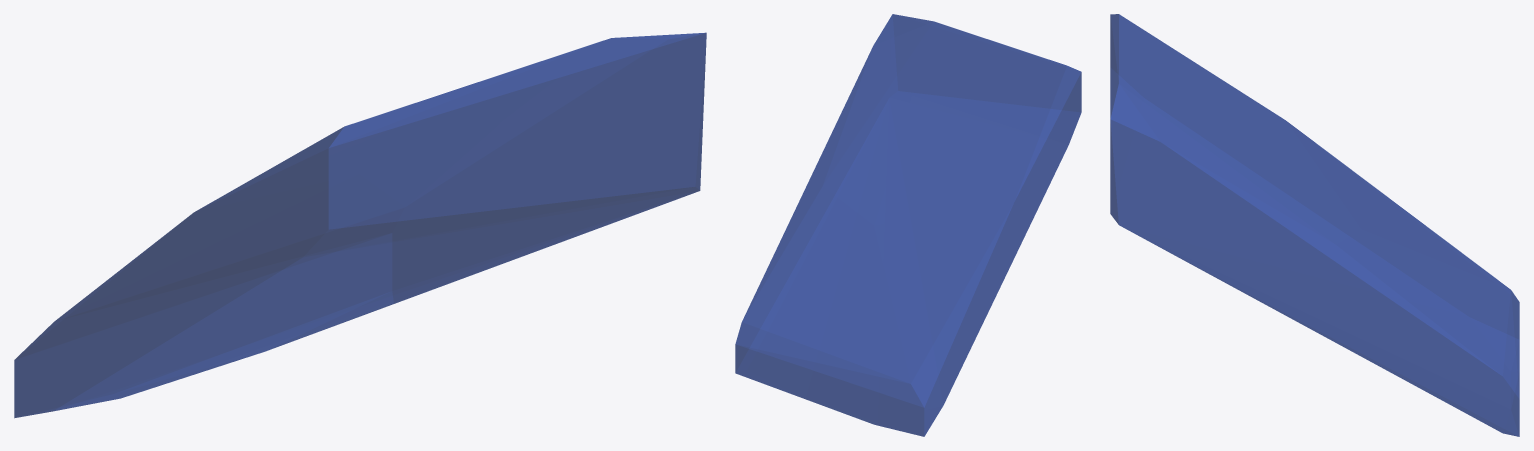
3 renders of one model, left to right at view 1: azimuth 30°, elevation 25°; view 2: azimuth 150°, elevation 25°; view 3: azimuth 270°, elevation 25°, orthographic. The views are drawn at different scales.
Parts seen in each view (by area): view 1: Shape_IndexedFaceSet.047_Shape_IndexedFaceSet.15252; view 2: Shape_IndexedFaceSet.047_Shape_IndexedFaceSet.15252; view 3: Shape_IndexedFaceSet.047_Shape_IndexedFaceSet.15252.
Boxes of the visible parts, x1=… form: Shape_IndexedFaceSet.047_Shape_IndexedFaceSet.15252: x1=14, y1=32, x2=706, y2=418; Shape_IndexedFaceSet.047_Shape_IndexedFaceSet.15252: x1=735, y1=14, x2=1081, y2=436; Shape_IndexedFaceSet.047_Shape_IndexedFaceSet.15252: x1=1110, y1=14, x2=1519, y2=436.
Bounding box in the file's own units: 0.0148 × 0.02 × 0.0213.
